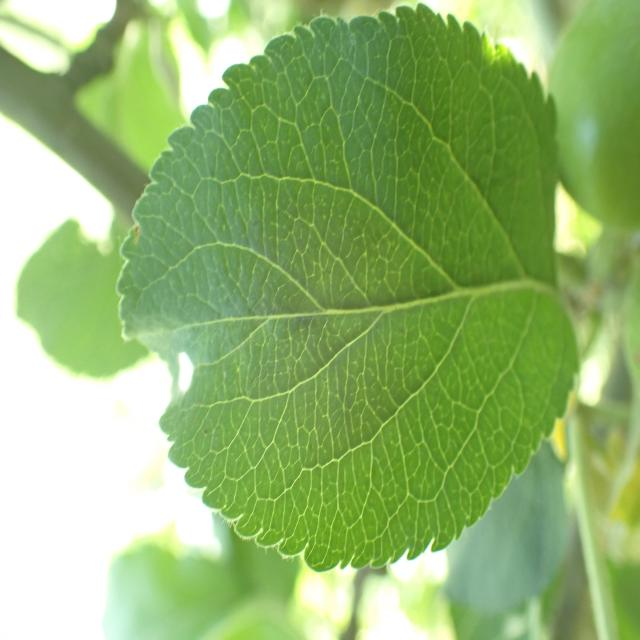healthy: (116, 1, 580, 575)
